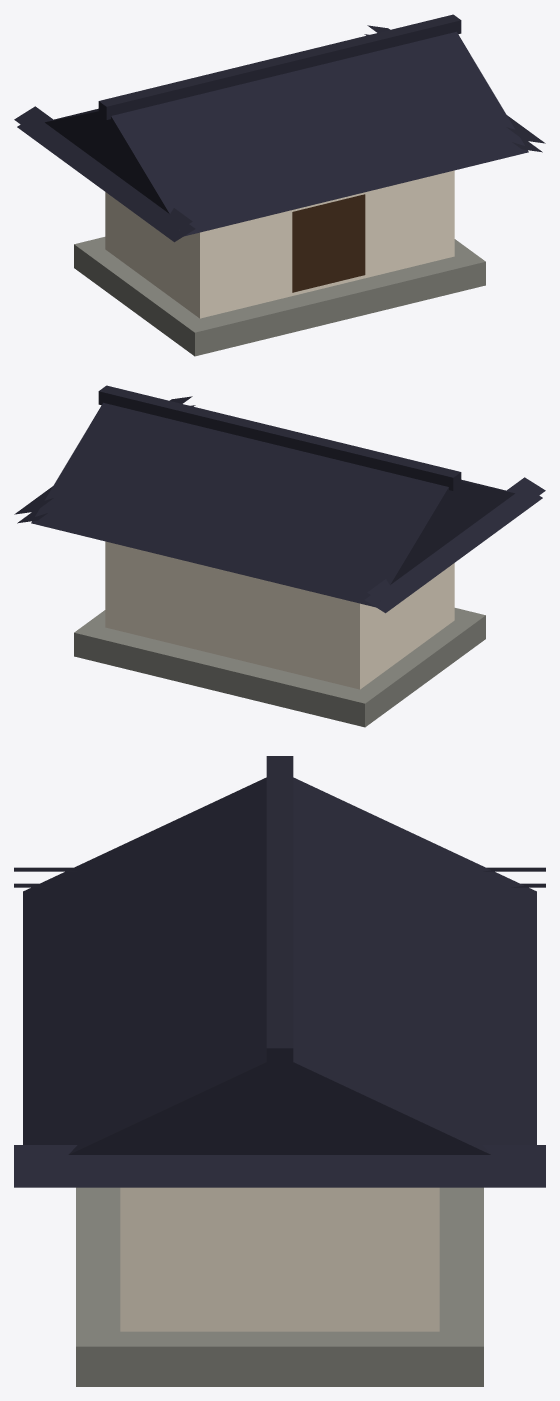
File: prop_giwa_lod1.glb
3 renders of one model, top to bottom at view 1: azimuth 30°, elevation 25°; view 2: azimuth 150°, elevation 25°; view 3: azimuth 270°, elevation 25°, orthographic. The views are drawn at different scales.
Visible parts, largest first — view 1: prop_giwa_lod1; view 2: prop_giwa_lod1; view 3: prop_giwa_lod1.
Part boxes in pixels (bbox=[...]): prop_giwa_lod1: bbox=[14, 14, 545, 356]; prop_giwa_lod1: bbox=[14, 385, 545, 727]; prop_giwa_lod1: bbox=[14, 756, 545, 1386].
Size of the model in its own units: 8.23 by 4.54 by 6.
